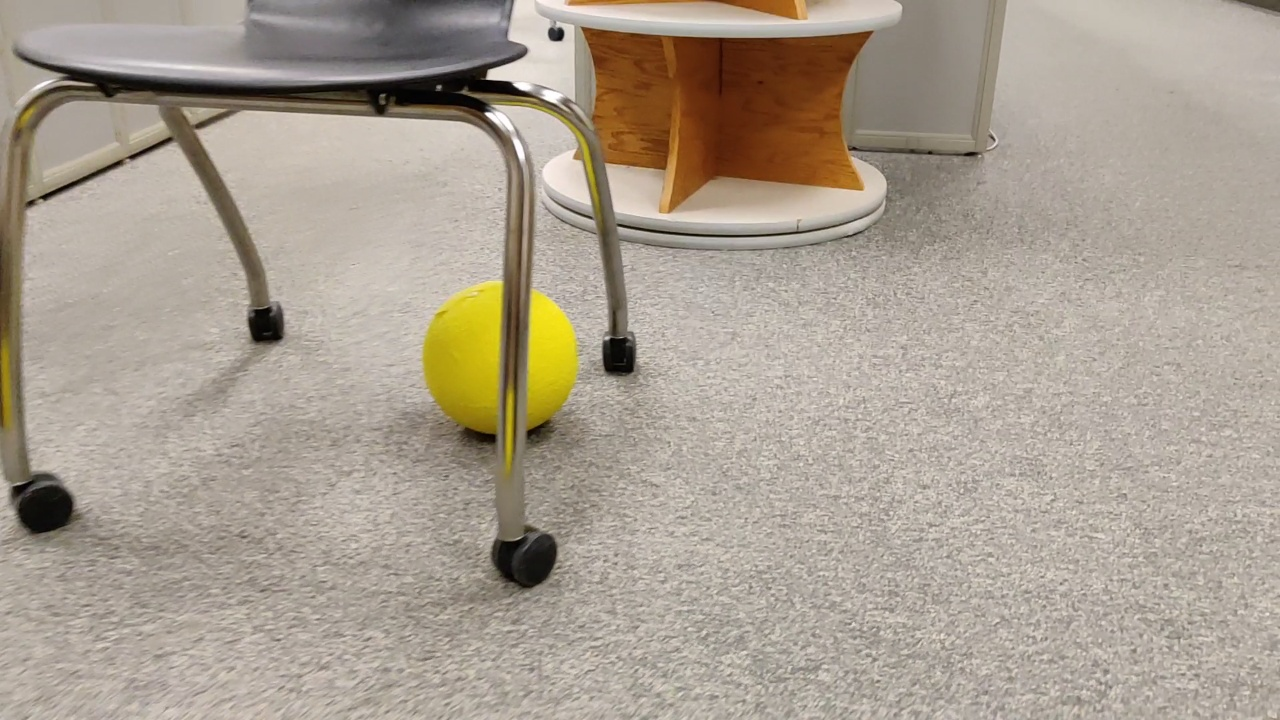Ball: (424, 279, 579, 435)
